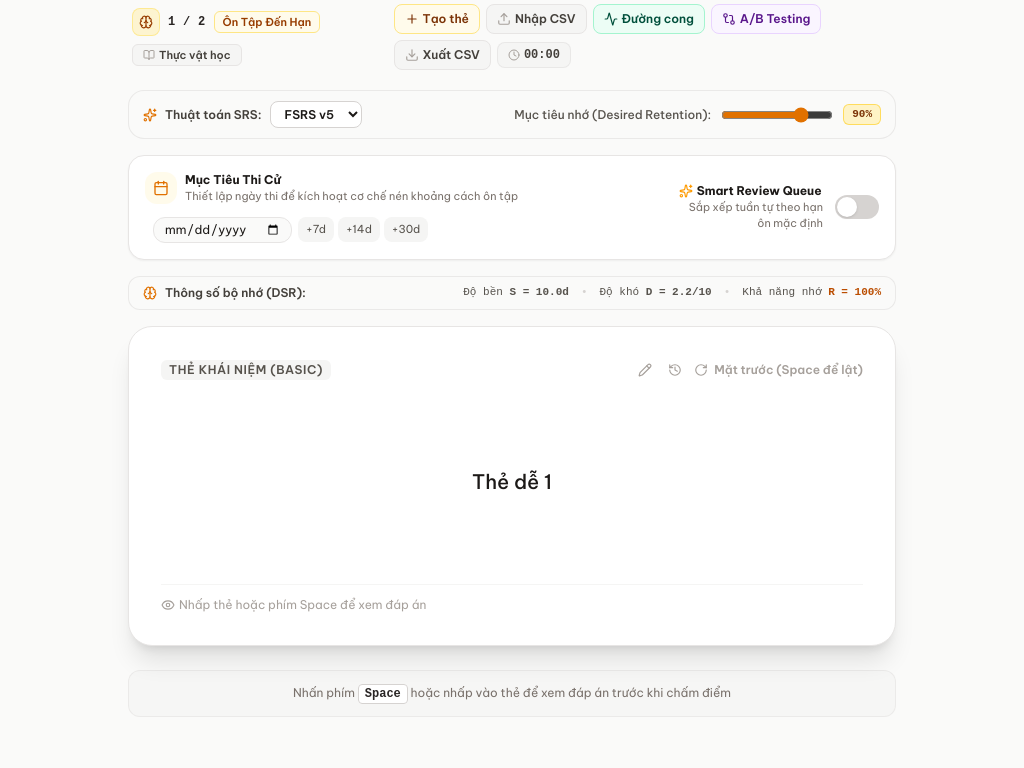
Test: Phase F6.12: SRS Algorithm Tuning Integration › prioritizes hard and overdue cards when Smart Priority Queue is toggled
The width and height of the screenshot is (1024, 768).
Check: the text "Thẻ dễ 1" is shown, box [472,469,552,494]
// Toggle Smart Priority Queue
Click the switch with test id "btn-toggle-smart-queue".
click(857, 207)  # box [835,195,879,219]
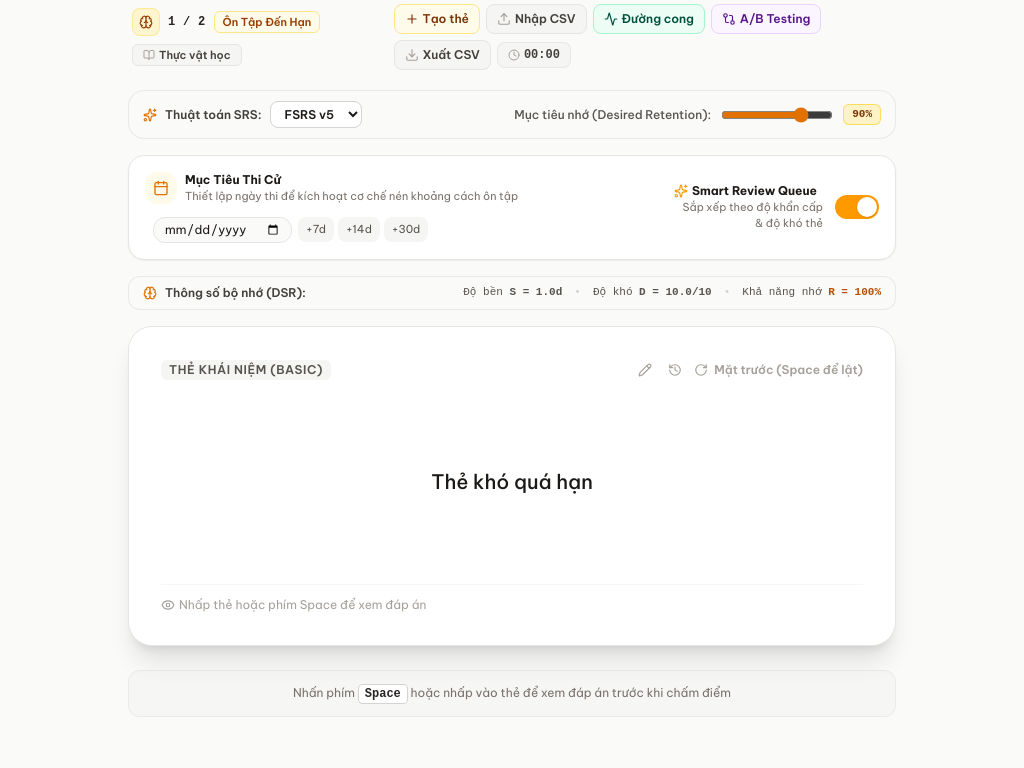
Check: the text "Thẻ khó quá hạn" is shown, box [431,469,593,494]
